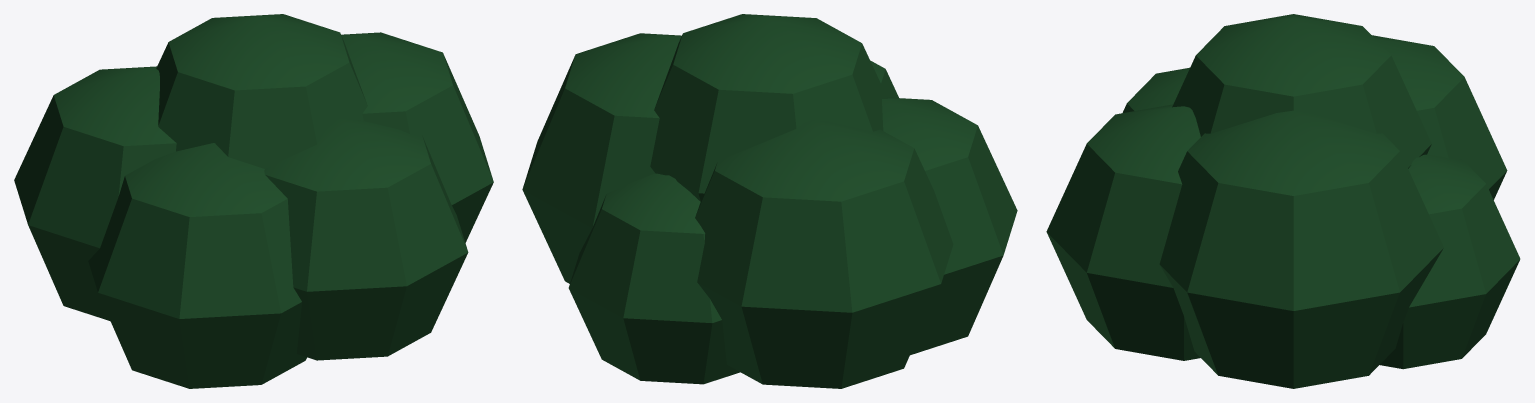
The model's file is landscape.shrub.size_1.glb.
3 views of the same model, side by side, from view 1: azimuth 30°, elevation 25°; view 2: azimuth 150°, elevation 25°; view 3: azimuth 270°, elevation 25° (orthographic). The views are drawn at different scales.
Visible parts, largest first — view 1: main__foliage_dark; view 2: main__foliage_dark; view 3: main__foliage_dark.
Boxes of the visible parts, bbox=[...] form: main__foliage_dark: bbox=[14, 14, 493, 388]; main__foliage_dark: bbox=[522, 14, 1017, 388]; main__foliage_dark: bbox=[1046, 14, 1520, 388].
Size of the model in its own units: 0.6573 by 0.489 by 0.6171.
